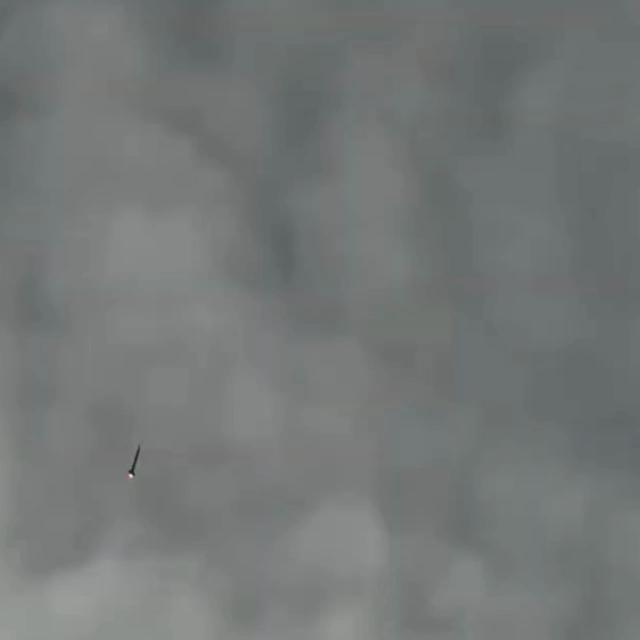rocket: (126, 446, 142, 479)
